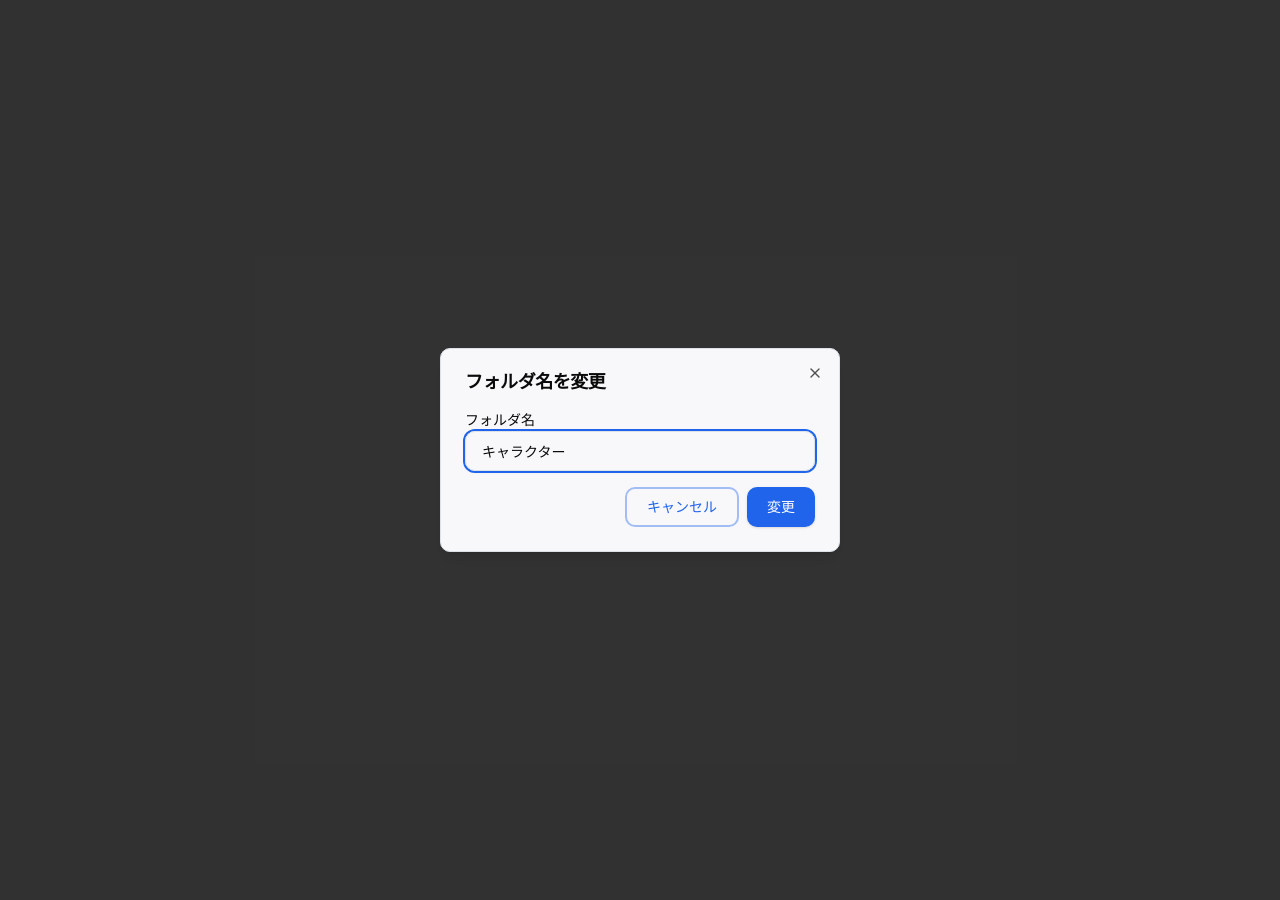
Test: RenameFolderModal › バリデーション › 空の名前では変更できない
Step 1. Clear the field labelled "フォルダ名" → (640, 451), box x1=465 y1=431 x2=815 y2=471
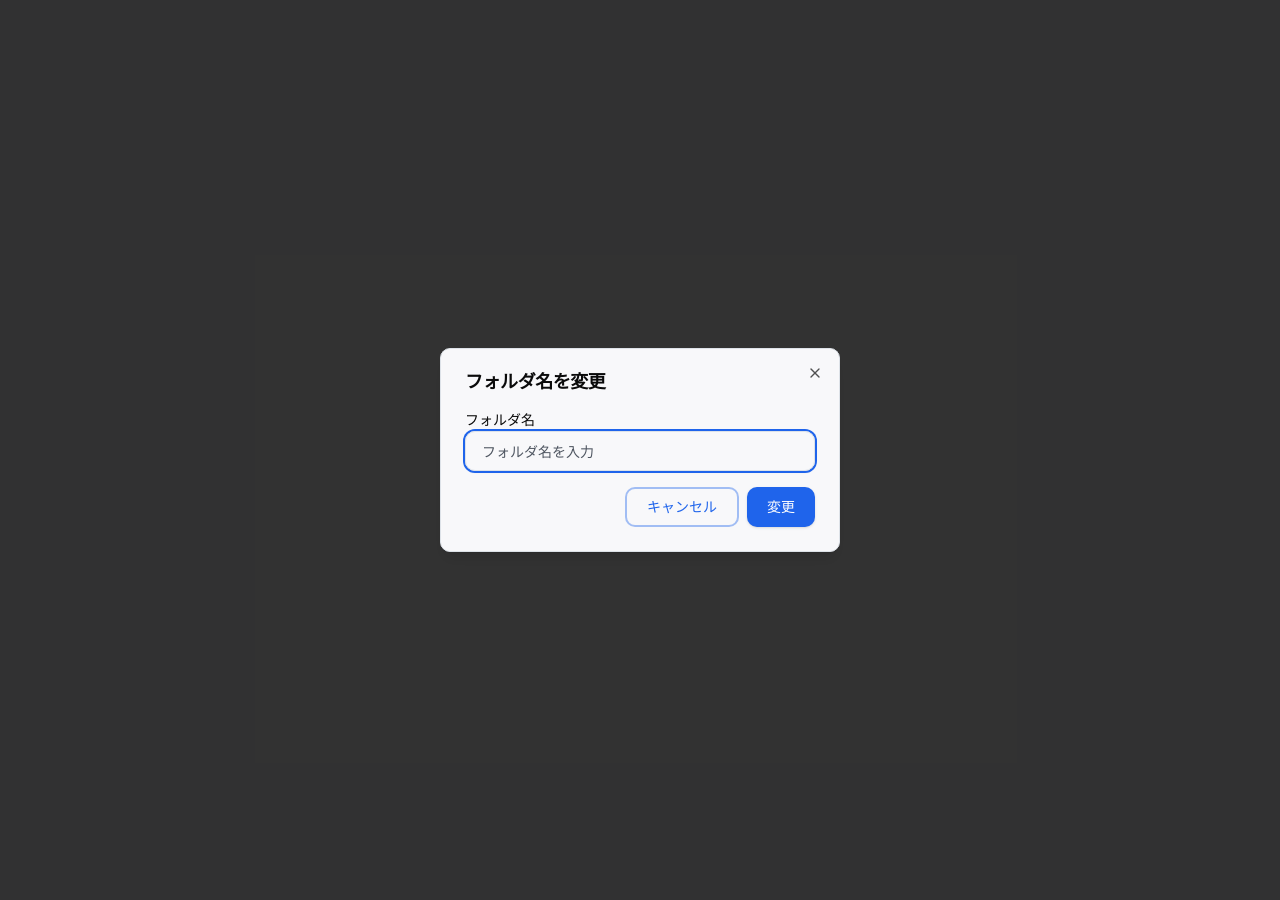
Step 2. Click the button "変更" → (781, 507), box x1=747 y1=487 x2=815 y2=527
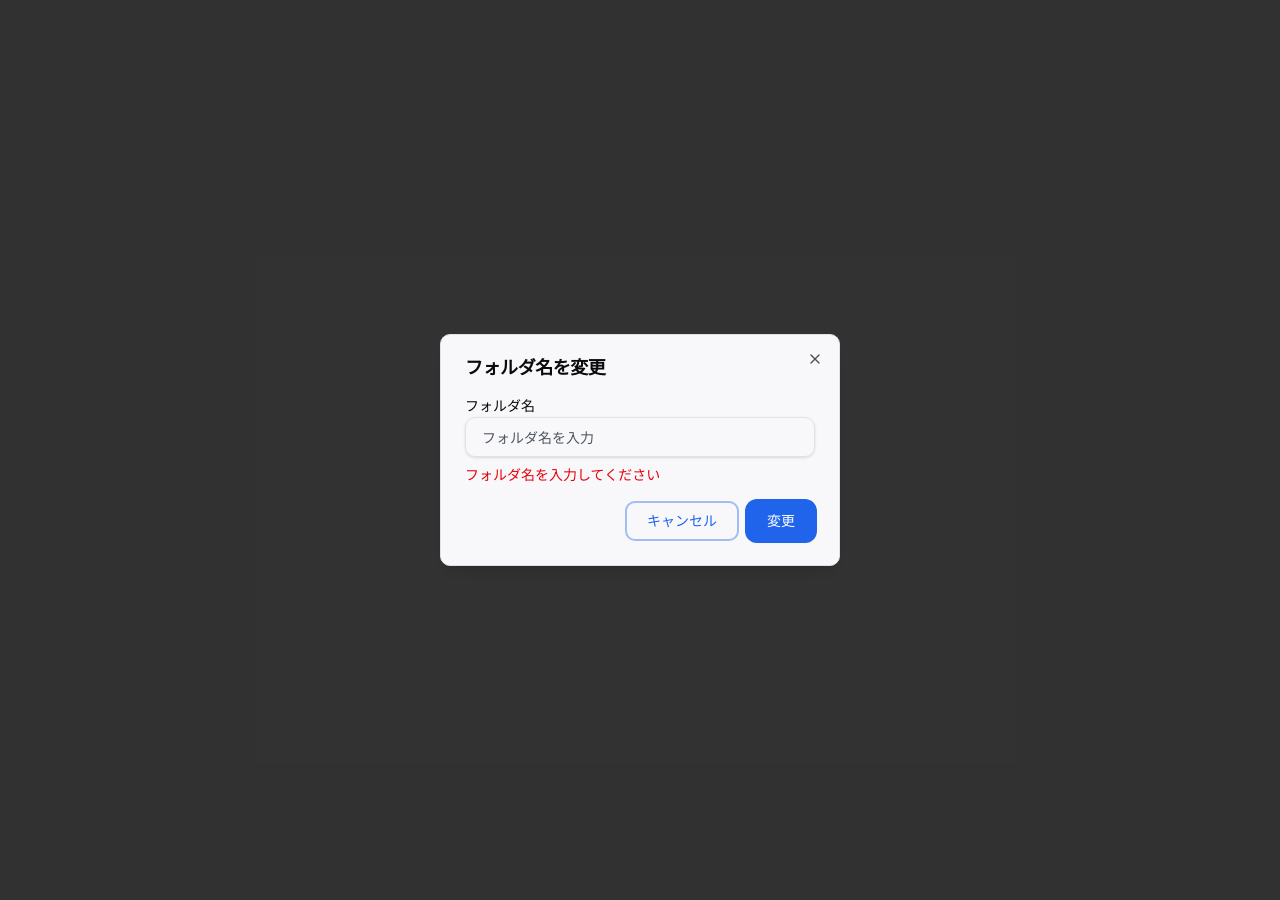
Expected: the text "フォルダ名を入力してください" is shown, x1=465 y1=466 x2=660 y2=483
